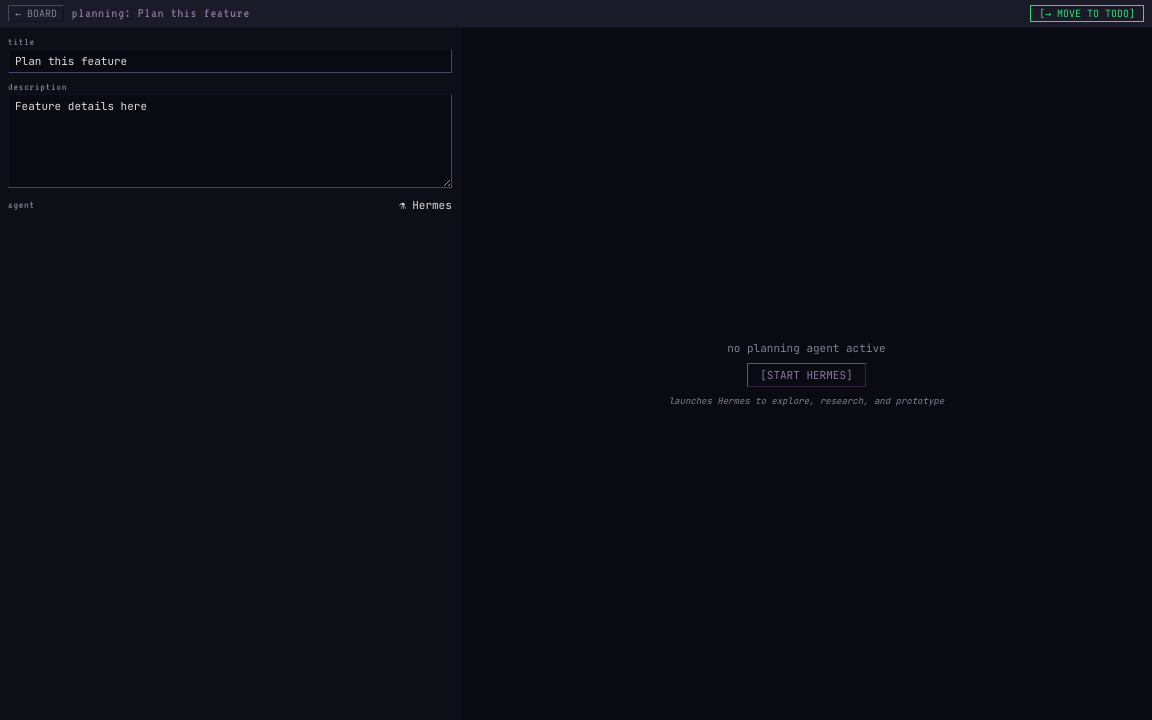
Test: PlanningPane › editing description marks form as dirty
Replace the text in the text box showing "Feature details here" with "New description" at [230, 141], box [8,94,452,188]
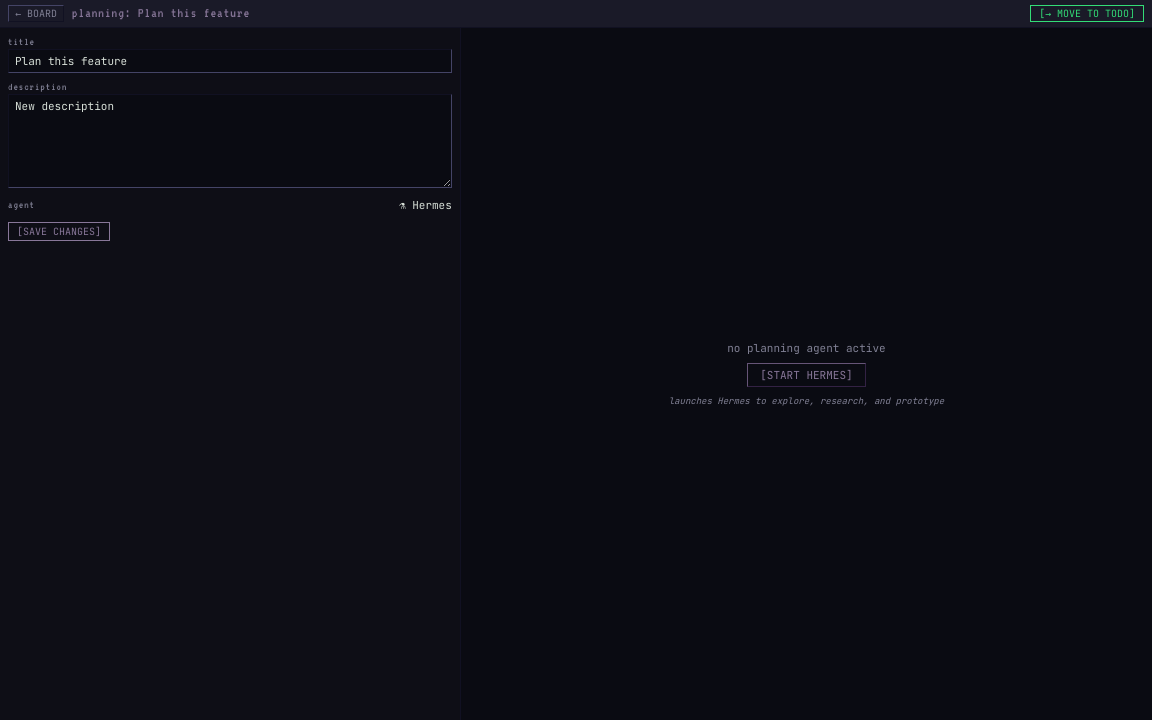
Now the button "[SAVE CHANGES]" is shown, box [8,222,110,241]
